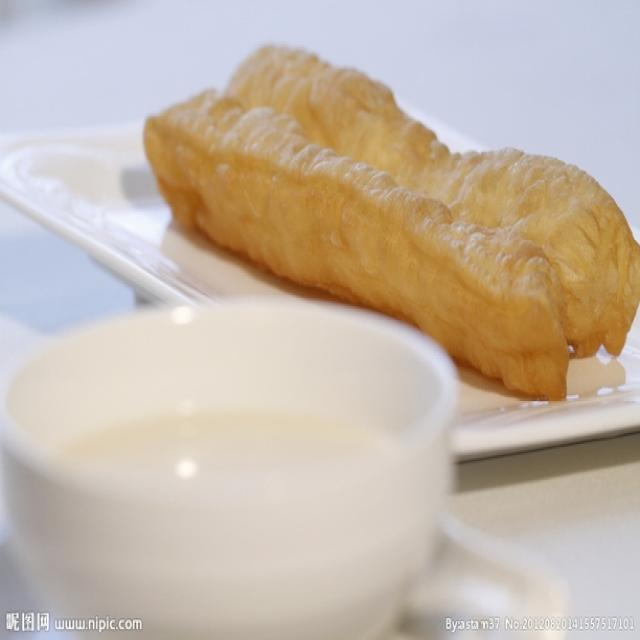炸货点心: (139, 42, 634, 362)
